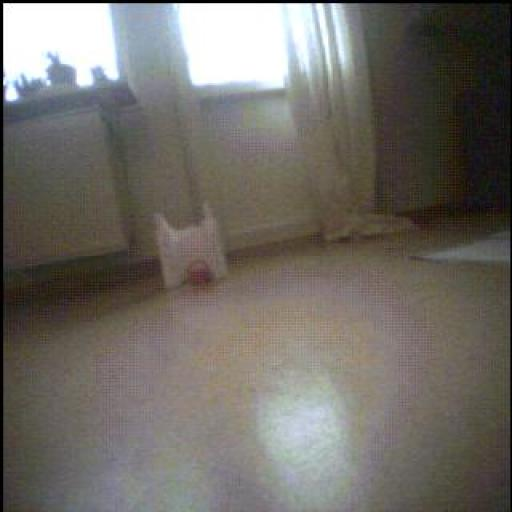Basket: (184, 264, 220, 290)
